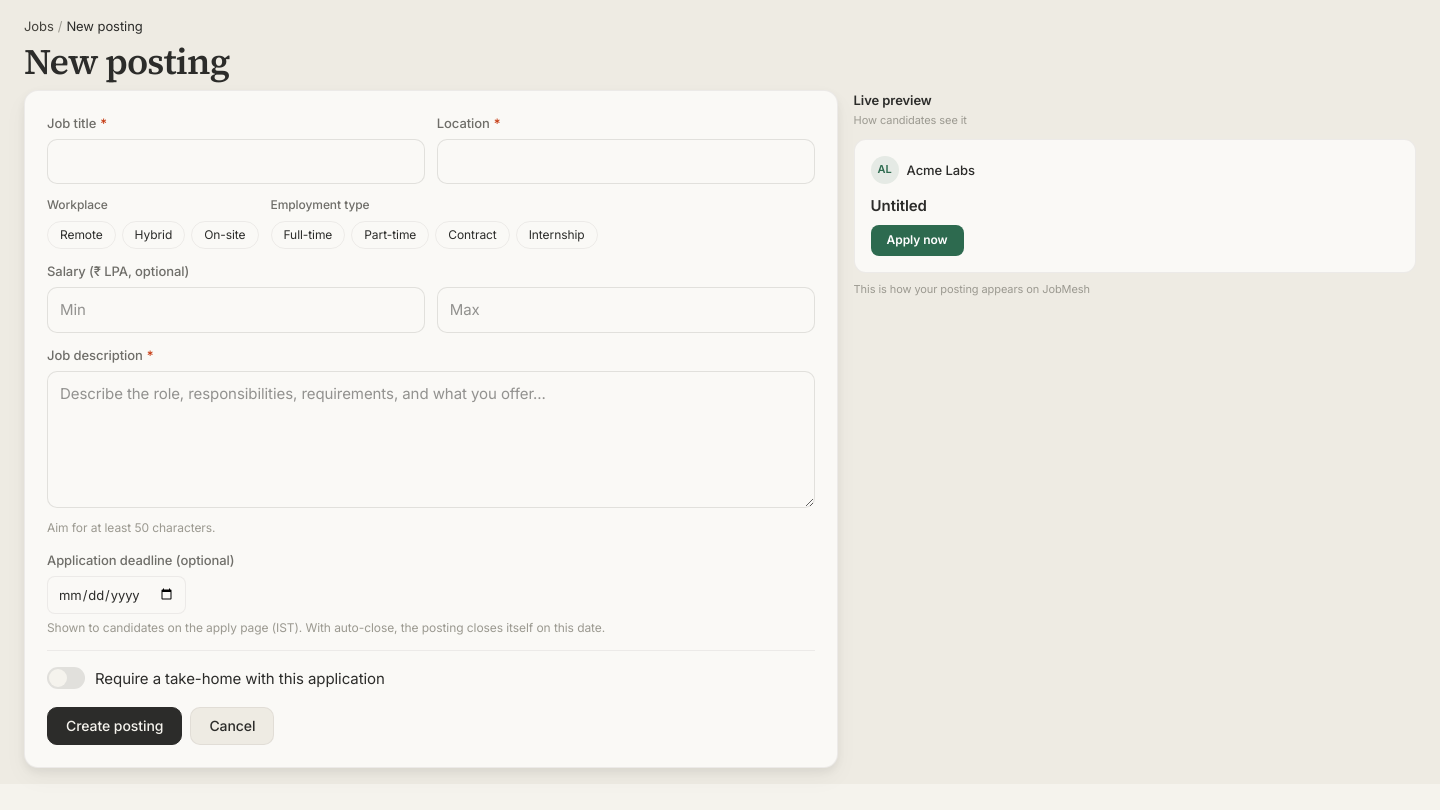
Test: New posting form › the live preview mirrors the title as the user types
Expected: the text "Untitled" is shown, [871,196,927,215]
Type "Staff Engineer" into the field labelled "Job title*".
click(236, 162); type("Staff Engineer")  # box [47,139,425,184]
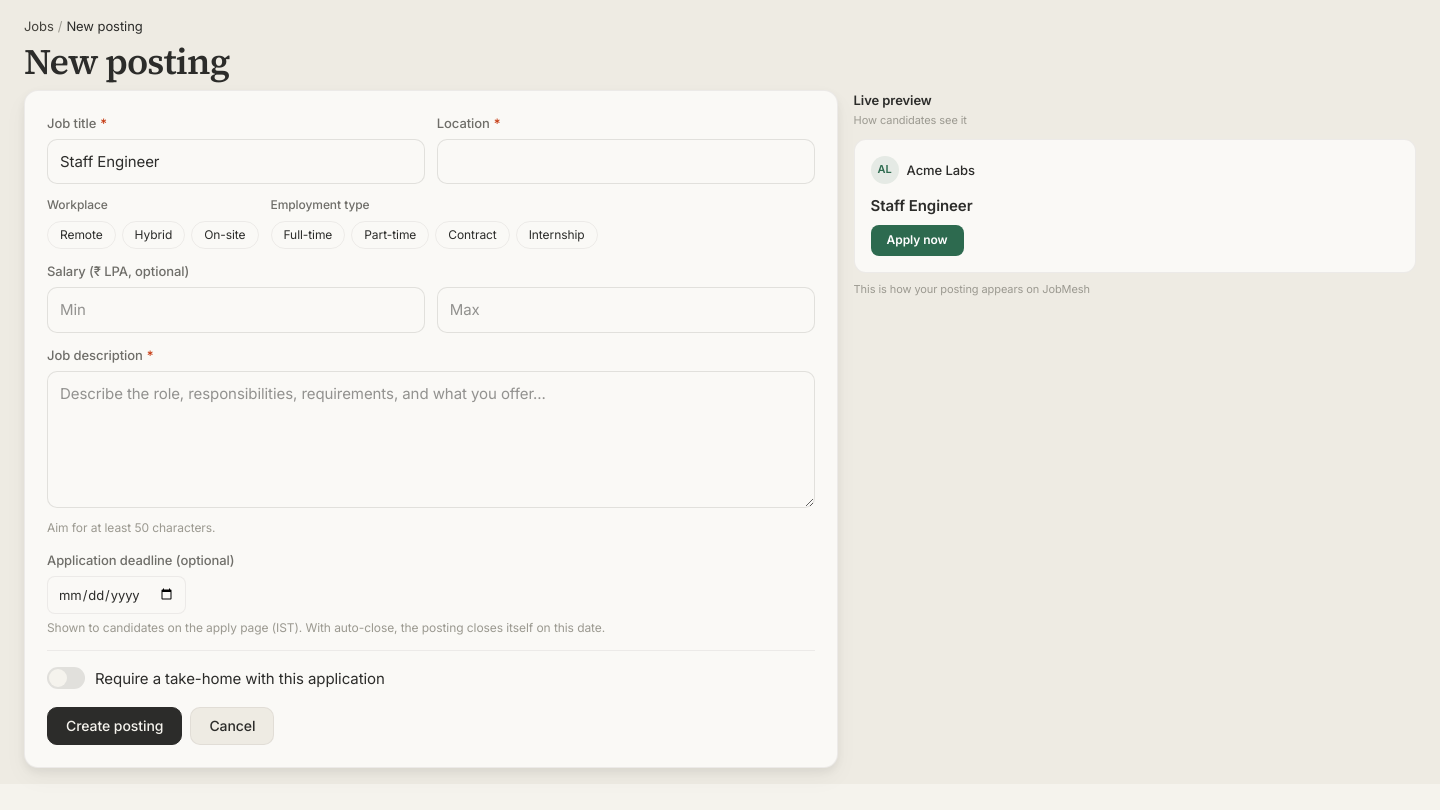
Expected: the text "Acme Labs" is shown, [907,160,975,180]
Now the text "Staff Engineer" is shown, box [871,196,973,215]
Now the text "Untitled" is gone
